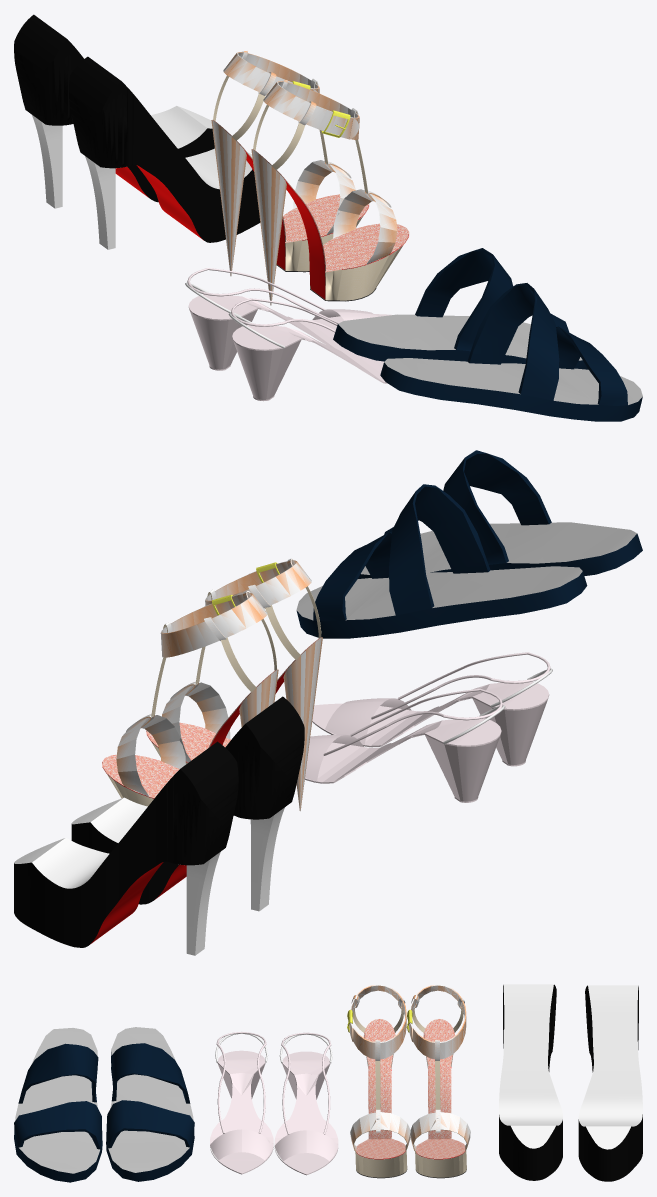
3 views of the same model, one above another, from view 1: azimuth 30°, elevation 25°; view 2: azimuth 150°, elevation 25°; view 3: azimuth 270°, elevation 25° (orthographic). The views are drawn at different scales.
Visible parts, largest first — view 1: Mesh1_Group3_Group2_Group1_High_Heel_Shoes1_Model.002; view 2: Mesh1_Group3_Group2_Group1_High_Heel_Shoes1_Model.002; view 3: Mesh1_Group3_Group2_Group1_High_Heel_Shoes1_Model.002.
Part boxes in pixels (box(x1,y1,x2,y2)): Mesh1_Group3_Group2_Group1_High_Heel_Shoes1_Model.002: box(14, 14, 642, 421); Mesh1_Group3_Group2_Group1_High_Heel_Shoes1_Model.002: box(14, 450, 642, 955); Mesh1_Group3_Group2_Group1_High_Heel_Shoes1_Model.002: box(14, 984, 642, 1182).
Bounding box in the file's own units: 0.9399 × 0.6786 × 2.38.
12 materials, 4 textured.
